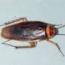cockroach: (1, 17, 59, 45)
